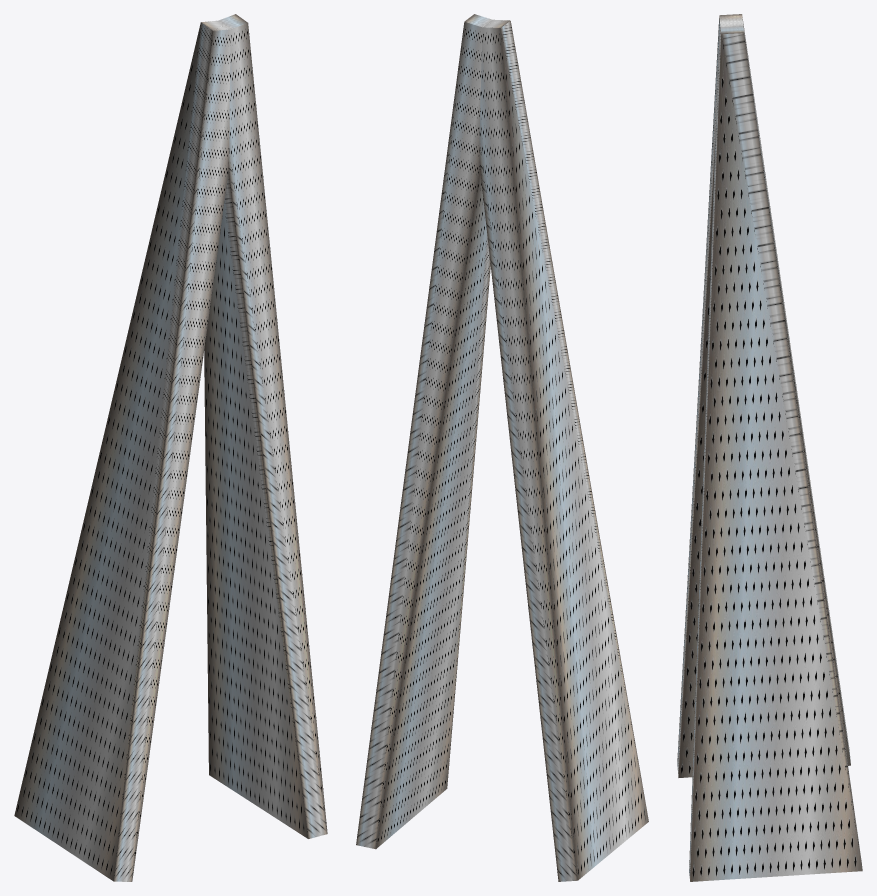
Rendered from tongs.FBX.
The picture shows the model from 3 angles, left to right: view 1: azimuth 30°, elevation 25°; view 2: azimuth 150°, elevation 25°; view 3: azimuth 270°, elevation 25°; orthographic projection. The views are drawn at different scales.
Parts seen in each view (by area): view 1: Box002, Box003; view 2: Box002, Box003; view 3: Box003, Box002.
Part boxes in pixels (left/top/right/bottom): Box002: left=14, top=20, right=230, bottom=881; Box003: left=204, top=14, right=327, bottom=838; Box002: left=479, top=19, right=648, bottom=881; Box003: left=356, top=14, right=492, bottom=849; Box003: left=689, top=26, right=862, bottom=881; Box002: left=677, top=14, right=850, bottom=777.
Bounding box in the file's own units: 3.55 × 2.44 × 11.88.
